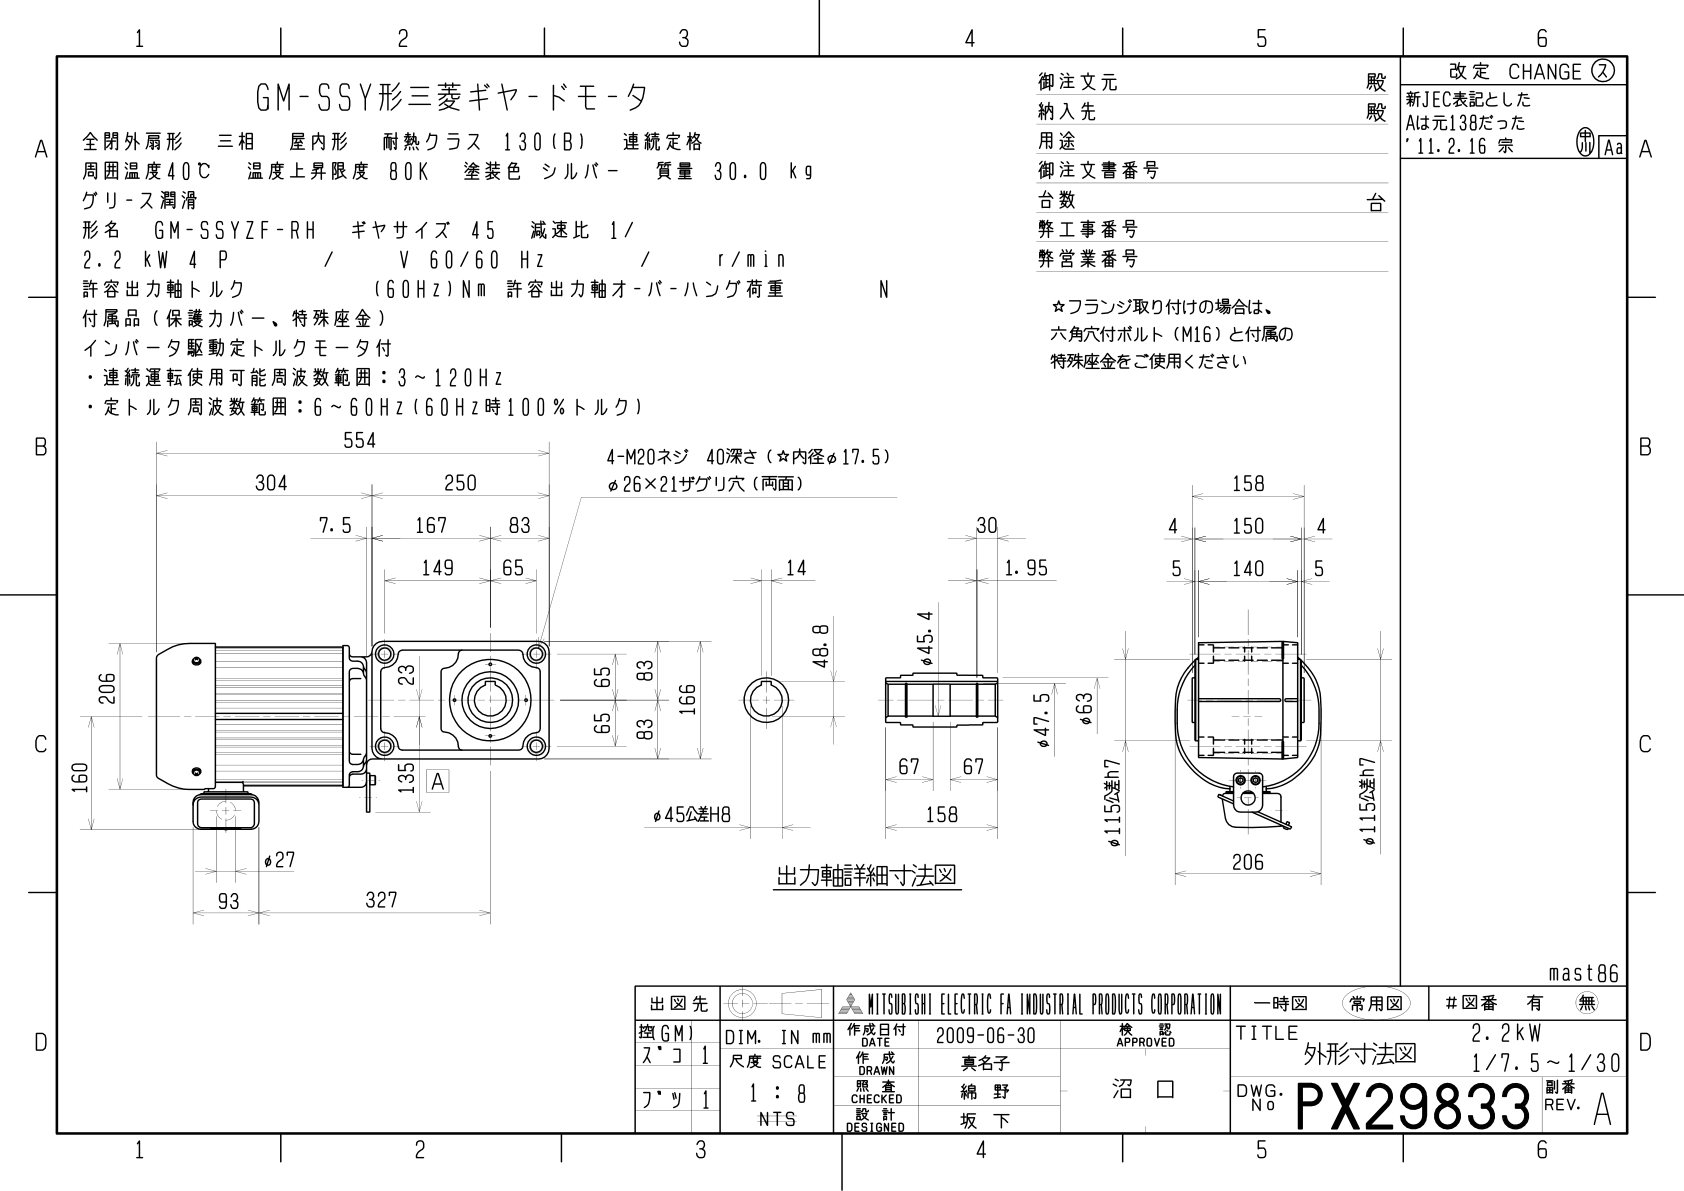GM_SSY_インバータ屋内_三相: (1, 1, 1674, 1183)
